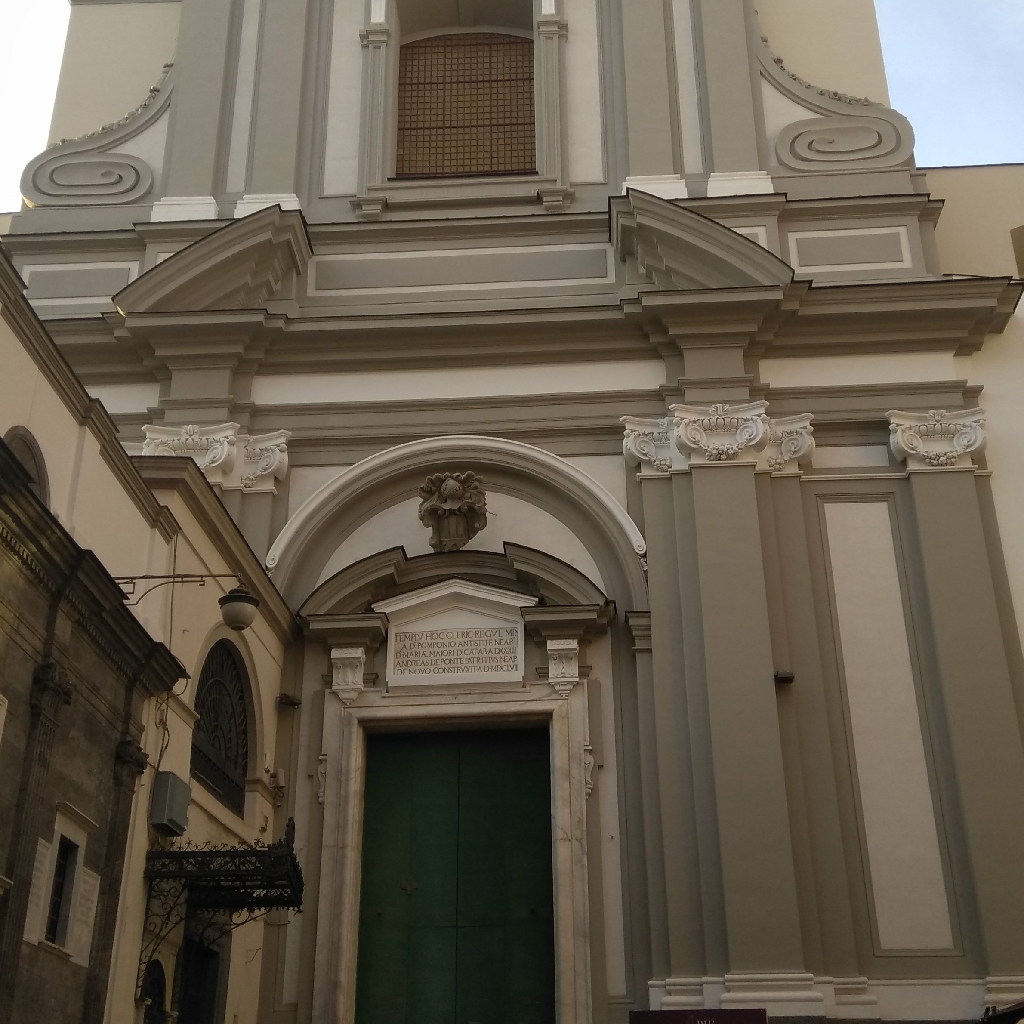fronton-partido: (109, 186, 801, 329), (295, 537, 608, 631)
vano-adintelado: (305, 672, 601, 1024)
